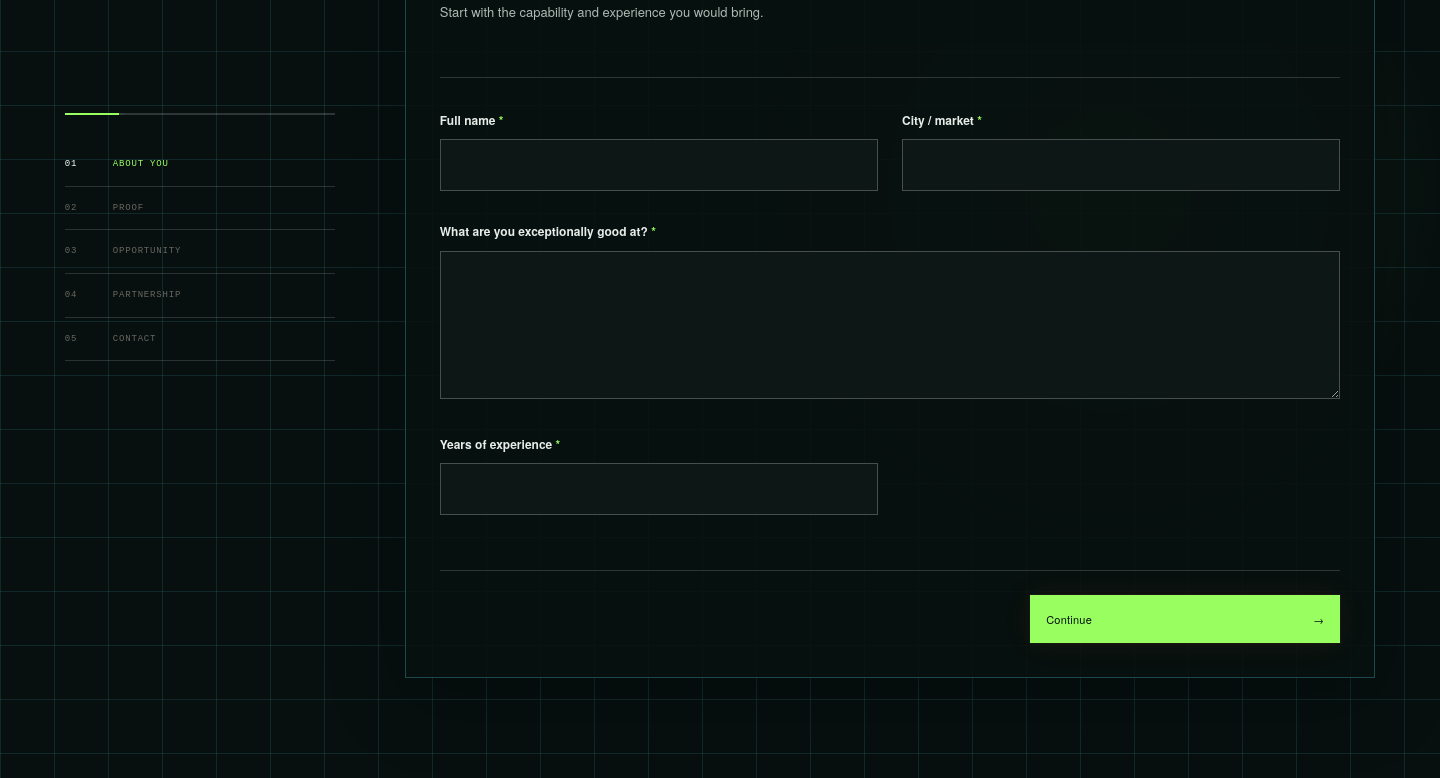
Scenario: BuildWithKoo Phase 3A application › prevents empty progression with associated required-field errors
(page scrolled)
Step 1. Click the button "Continue →" → [1069, 619], box [1030,595,1340,643]
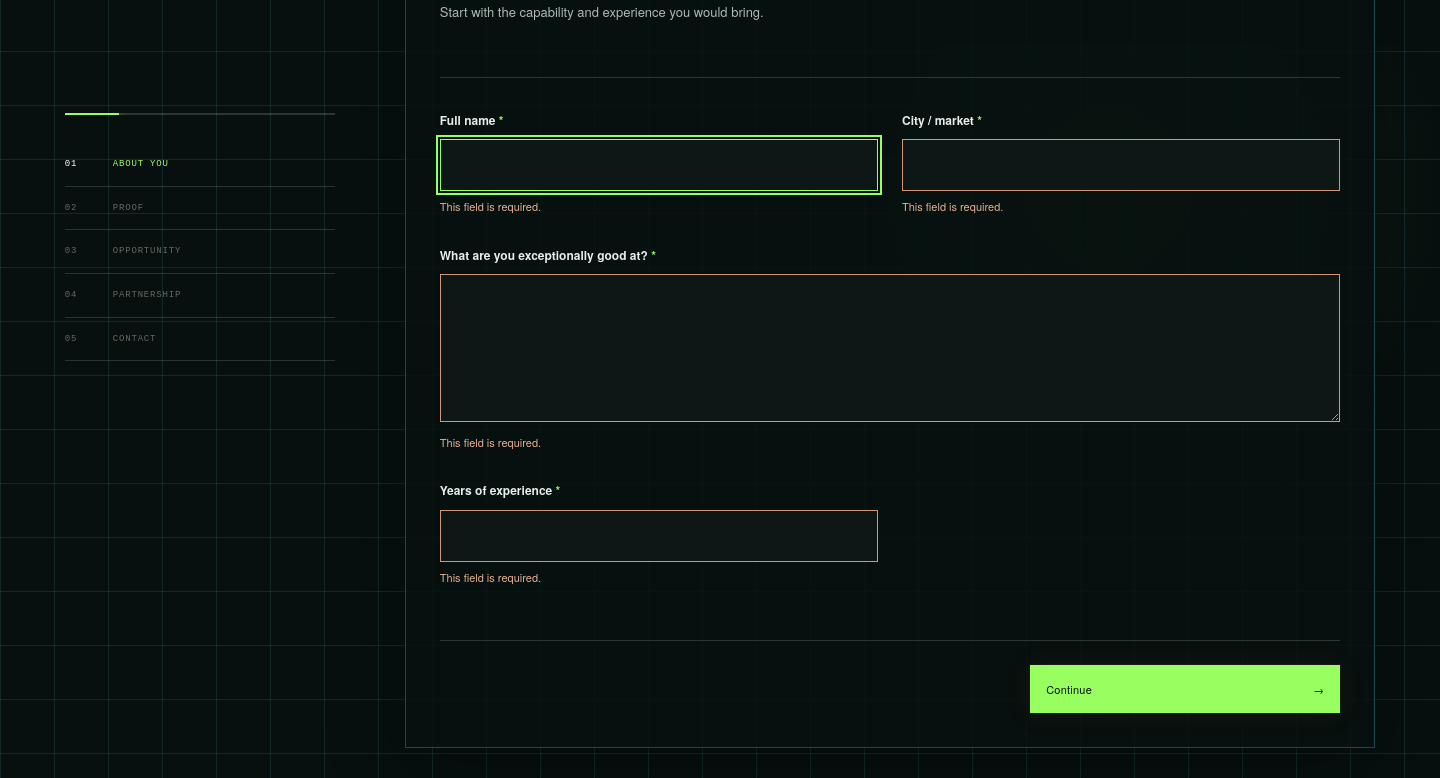
Expected: the text "This field is required." is shown 4 times, [440,198,541,214]; [902,198,1003,214]; [440,434,541,450]; [440,569,541,585]
